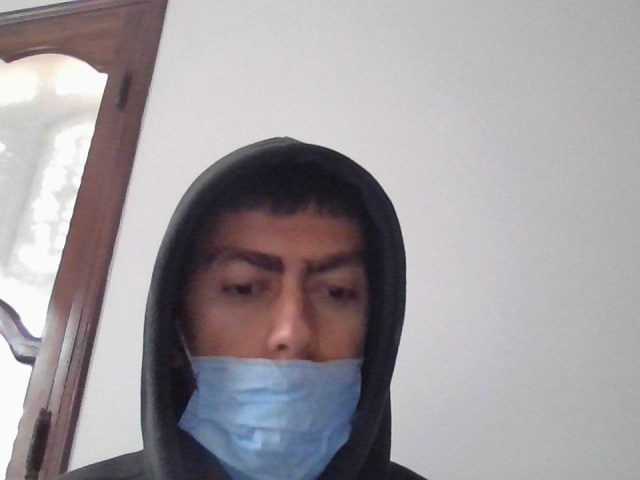mask_weared_incorrect: (180, 181, 386, 479)
